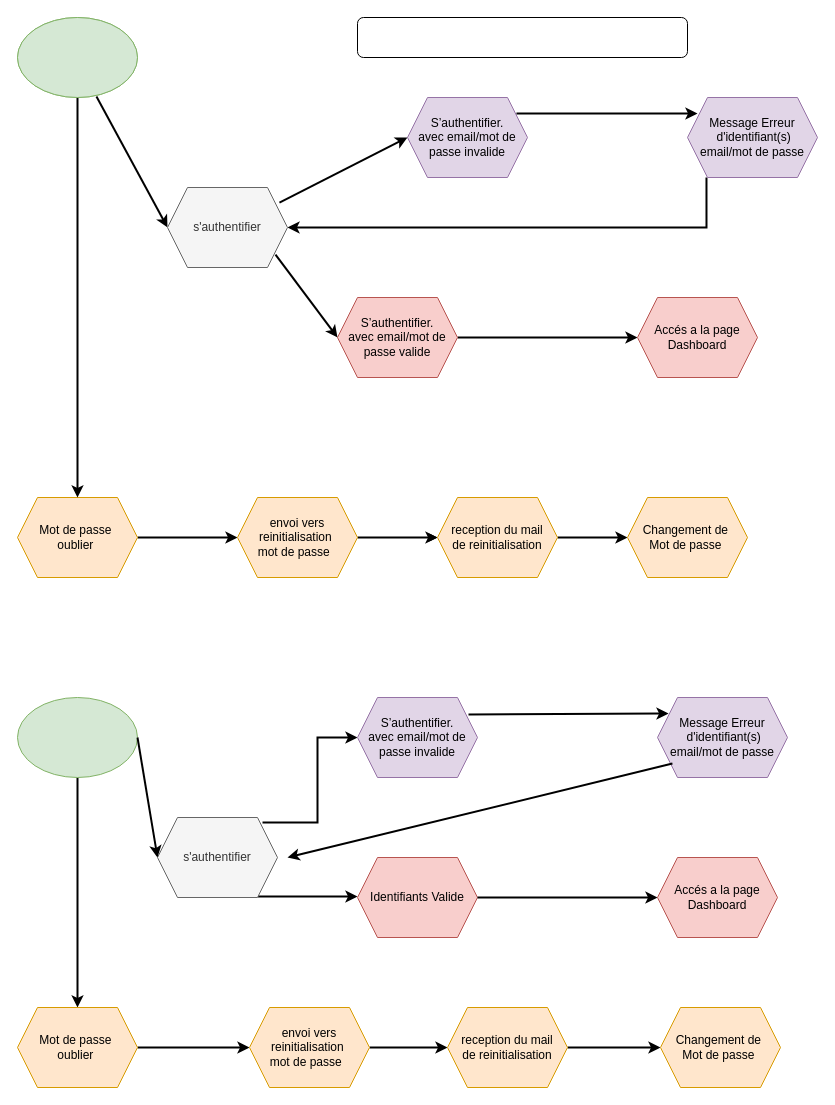
Some shapes in this 835 by 1105 pixel diagram are drawn without their labels. Each missing label, with the box of its shape:
Cas d'utilisation Page connexion: (356, 16, 688, 58)
Eleve: (16, 16, 138, 98)
Professeur/ bénévole: (16, 696, 138, 778)
